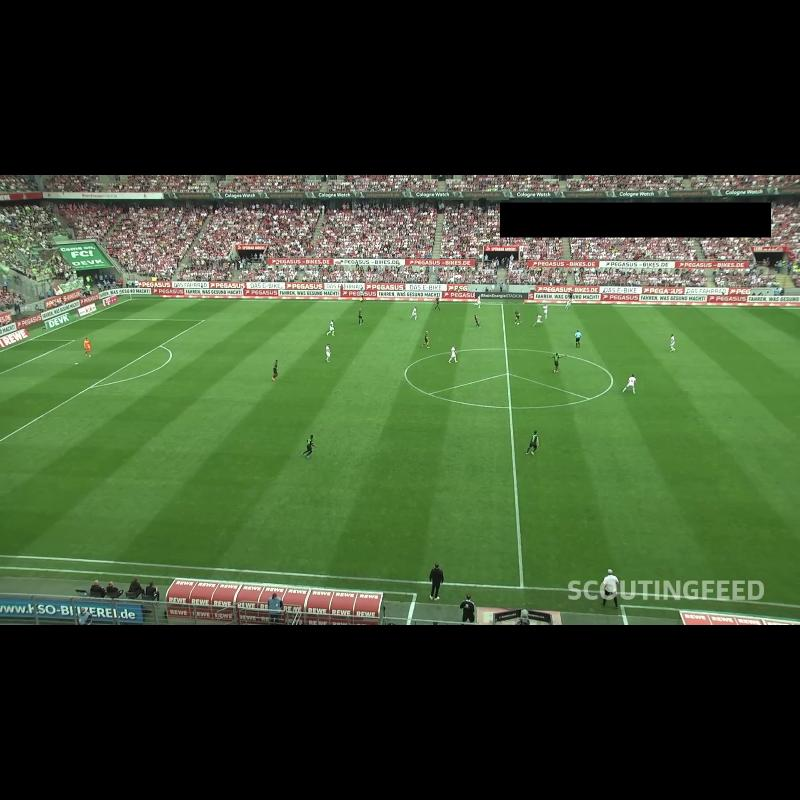cross_recipient_zone: (0, 319, 204, 441)
crossing_player_zone: (0, 442, 139, 556), (83, 299, 317, 321), (697, 307, 800, 329)
pitch: (0, 299, 800, 607)
